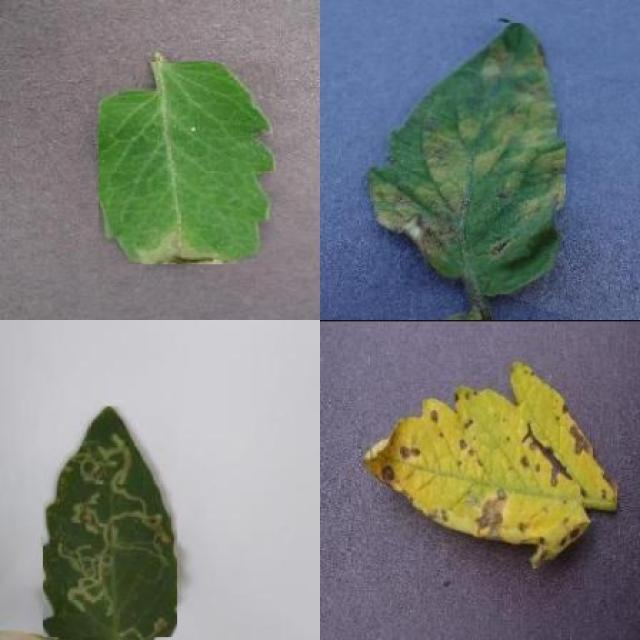Late Blight: (98, 62, 276, 264)
Leaf Miner: (43, 406, 177, 637)
Leaf Mold: (369, 23, 565, 294)
Septoria: (360, 358, 617, 568)
